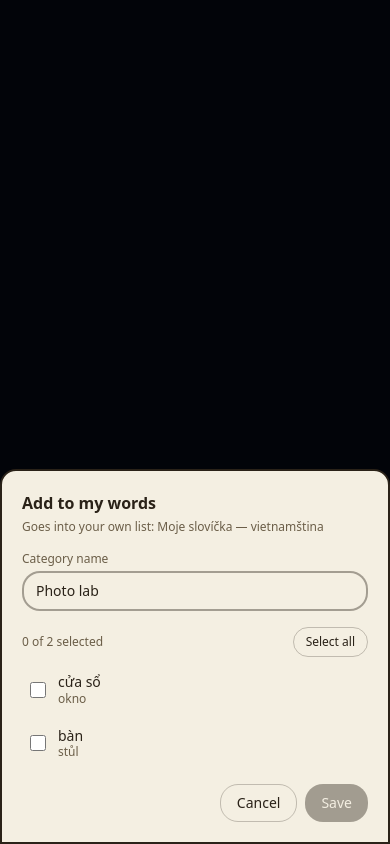
it: SaveWordsModal › reports a failed save and keeps the picked words
Click the checkbox labelled "cửa sổ okno".
click(38, 690)  # box [30,682,46,698]
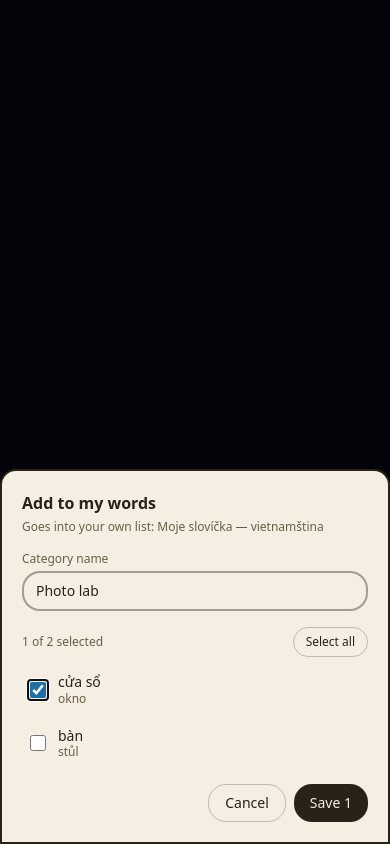
Click the button "Save 1".
click(331, 803)  # box [294,784,368,822]
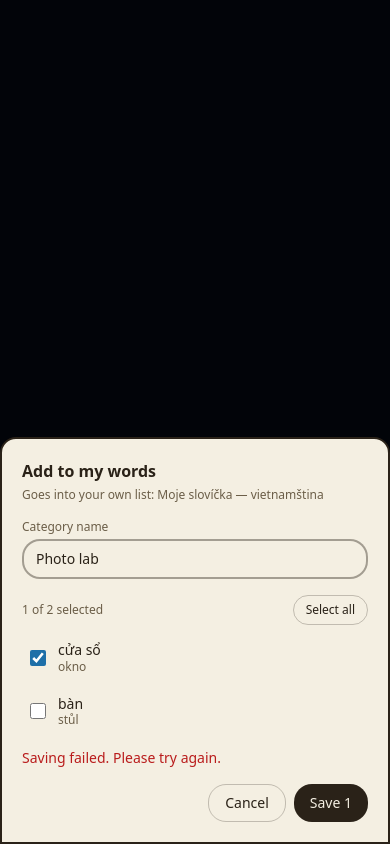
Expected: the checkbox labelled "cửa sổ okno" is checked, [30,650,46,666]
Expected: the text "Saving failed. Please try again." is shown, [22,748,221,767]
